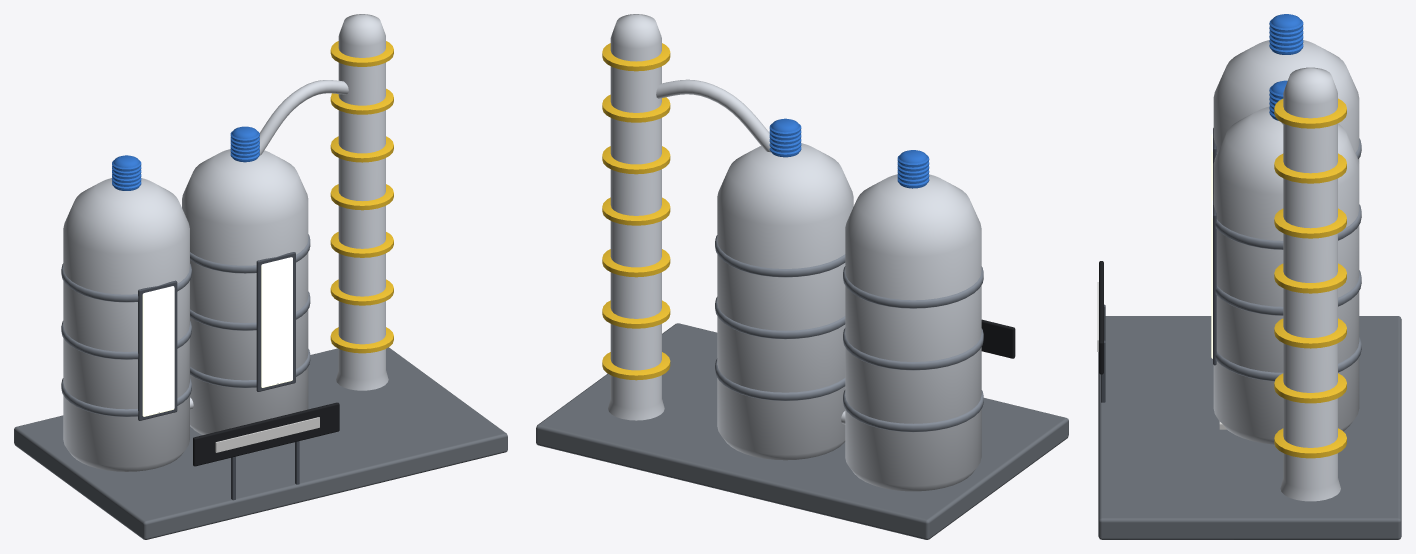
Rendered from Bioreactor.fbx.
3 renders of one model, left to right at view 1: azimuth 30°, elevation 25°; view 2: azimuth 150°, elevation 25°; view 3: azimuth 270°, elevation 25°, orthographic. The views are drawn at different scales.
Visible parts, largest first — view 1: Body__Chrome, Body__Plate, Body__NeonGreen, Body__Yellow, Body__Steel, Body__Black, Body__MetalDark, Body__Blue, Body__NeonGreen!1; view 2: Body__Chrome, Body__Plate, Body__Steel, Body__Yellow, Body__Blue, Body__Black; view 3: Body__Chrome, Body__Plate, Body__Yellow, Body__Steel, Body__Blue, Body__MetalDark, Body__Black, Body__NeonGreen.
Boxes of the visible parts, x1,y1,x2,y2 form: Body__Chrome: [63, 14, 388, 471]; Body__Plate: [14, 347, 507, 539]; Body__NeonGreen: [142, 257, 292, 416]; Body__Yellow: [330, 41, 393, 353]; Body__Steel: [61, 234, 310, 416]; Body__Black: [193, 402, 339, 466]; Body__MetalDark: [138, 252, 299, 500]; Body__Blue: [112, 126, 259, 190]; Body__NeonGreen!1: [215, 417, 319, 452]; Body__Chrome: [608, 14, 981, 491]; Body__Plate: [536, 323, 1068, 539]; Body__Steel: [715, 235, 983, 432]; Body__Yellow: [602, 43, 670, 380]; Body__Blue: [769, 118, 929, 188]; Body__Black: [981, 319, 1015, 358]; Body__Chrome: [1213, 40, 1359, 501]; Body__Plate: [1098, 316, 1401, 539]; Body__Yellow: [1274, 98, 1346, 458]; Body__Steel: [1215, 138, 1361, 381]; Body__Blue: [1269, 14, 1303, 120]; Body__MetalDark: [1101, 128, 1216, 402]; Body__Black: [1099, 261, 1103, 374]; Body__NeonGreen: [1211, 133, 1212, 358].
Size of the model in its own units: 8 by 8.5 by 5.02.
